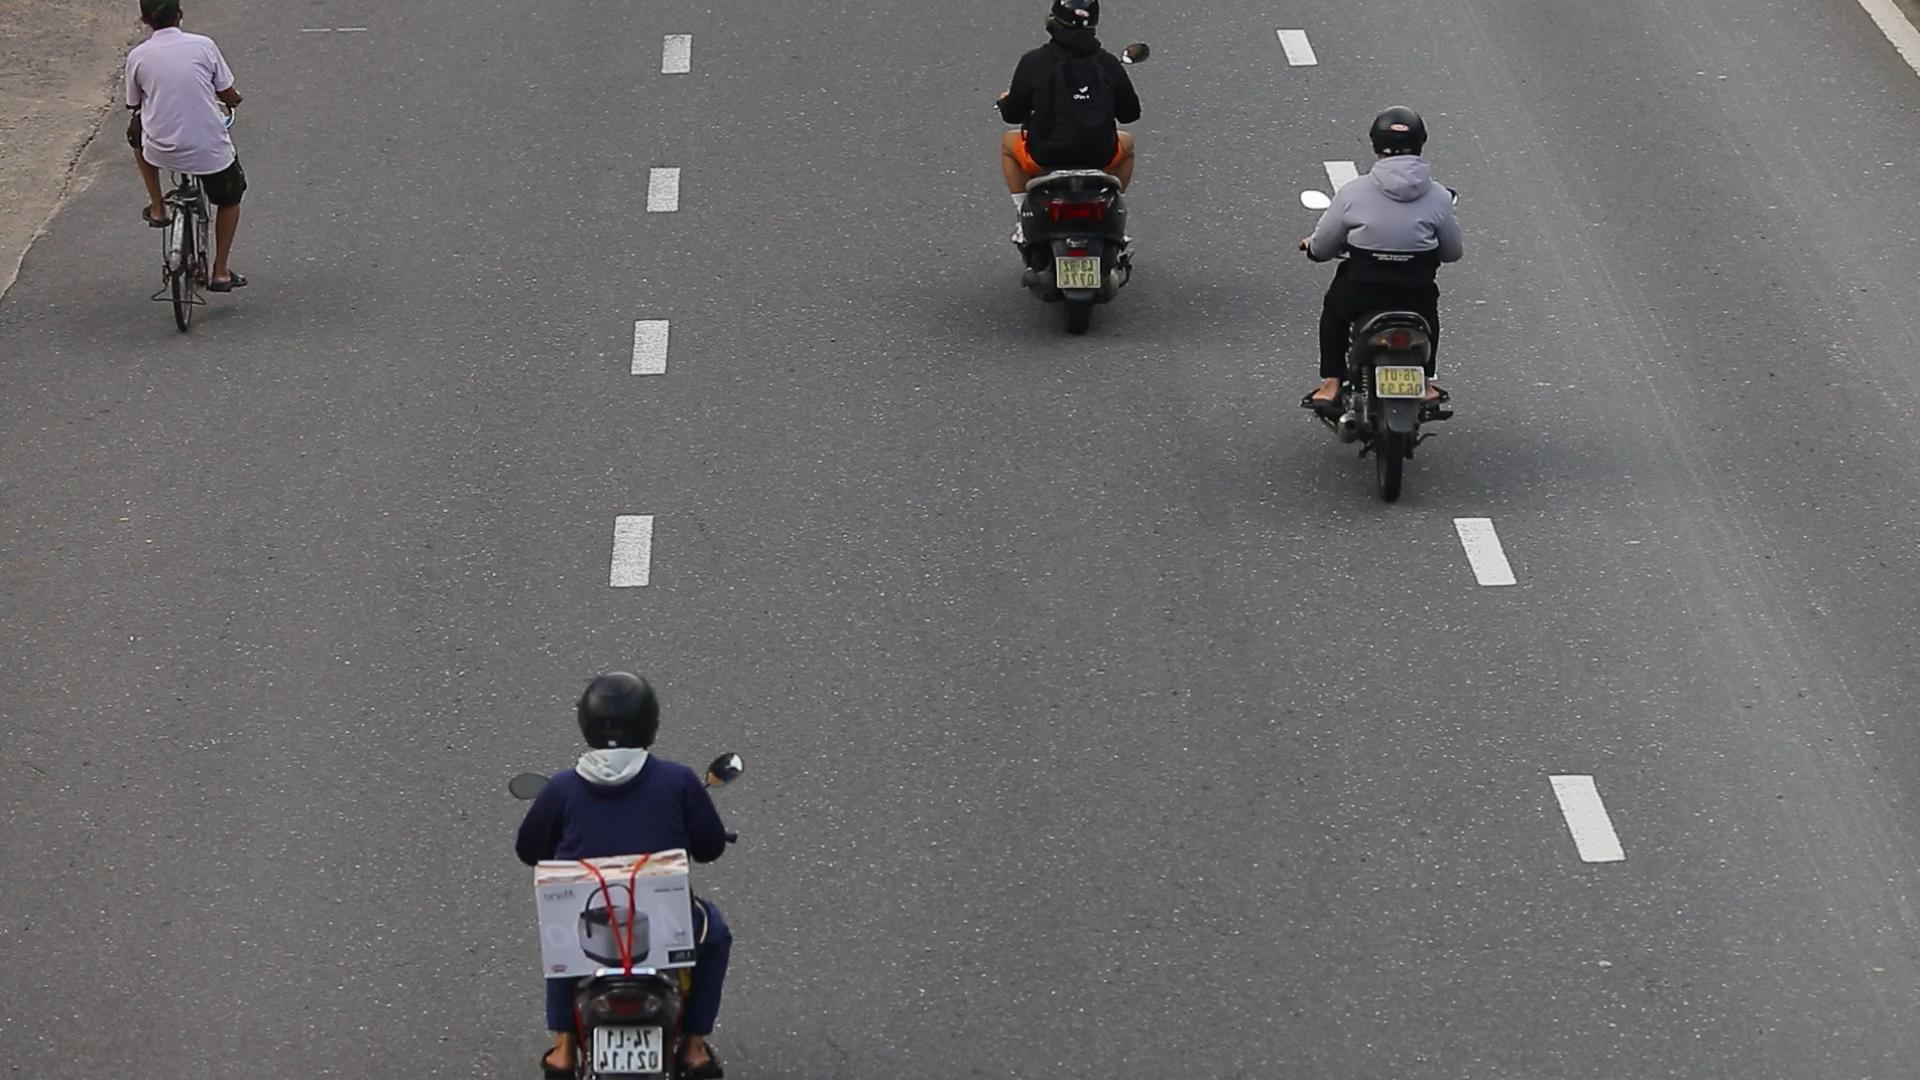motobike: (502, 659, 758, 1077), (1284, 98, 1464, 510), (985, 0, 1158, 335)
